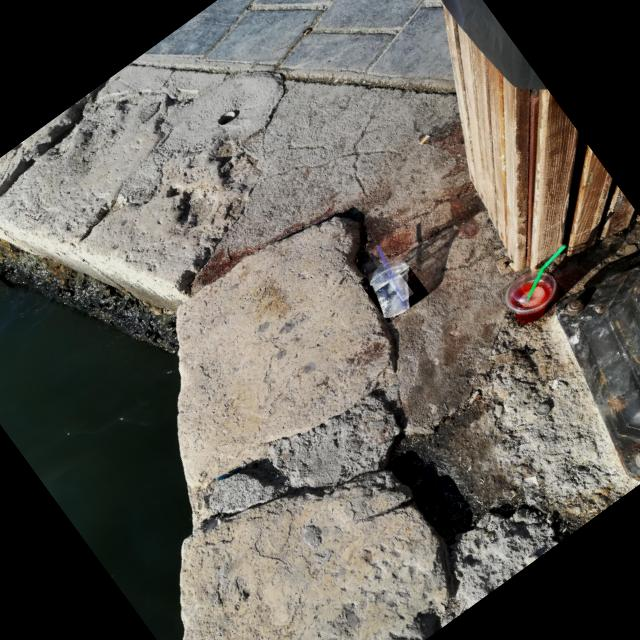Cigarette: (419, 134, 430, 144), (509, 261, 516, 270), (304, 28, 312, 34)
Cup: (504, 269, 557, 322), (369, 260, 410, 317)
Lid: (504, 270, 558, 314), (370, 259, 409, 283)
Straw: (526, 244, 566, 300), (377, 245, 406, 300)
